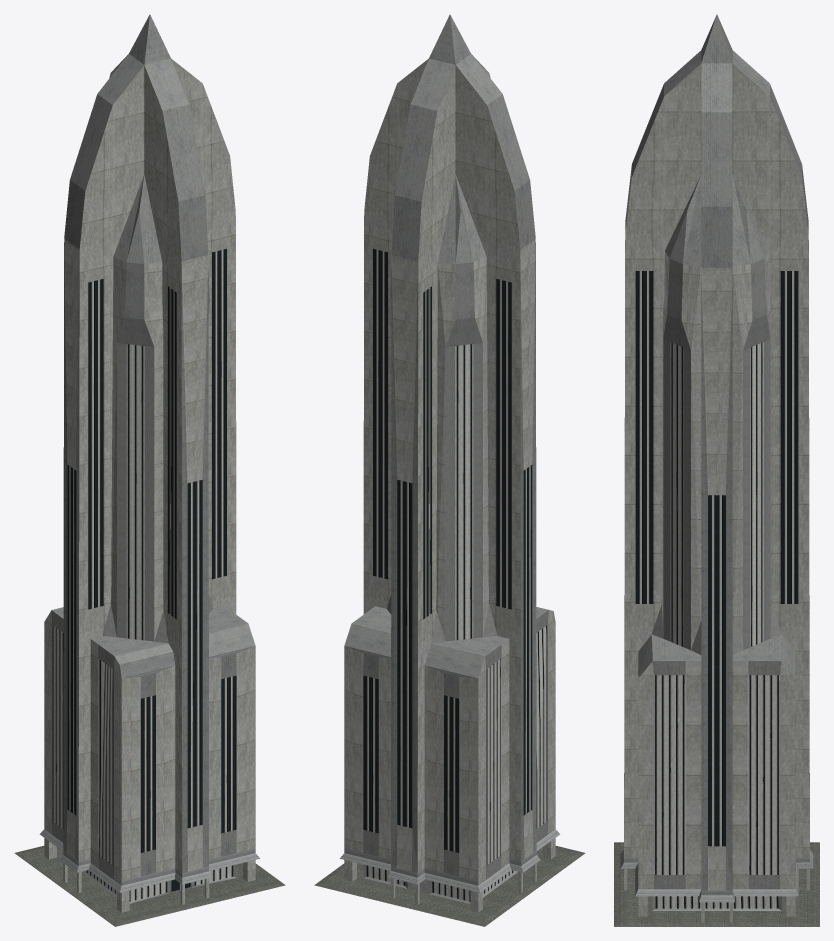
Rendered from thm_corl_skyskraper_s01_r0_mesh_l2.fbx.
3 views of the same model, side by side, from view 1: azimuth 30°, elevation 25°; view 2: azimuth 150°, elevation 25°; view 3: azimuth 270°, elevation 25° (orthographic).
Visible parts, largest first — view 1: mesh_node; view 2: mesh_node; view 3: mesh_node.
Boxes of the visible parts, box(x1,y1,x2,y2) form: mesh_node: box(14, 14, 285, 926); mesh_node: box(314, 14, 585, 926); mesh_node: box(614, 14, 819, 926).
Size of the model in its own units: 43.96 by 210 by 45.09.
